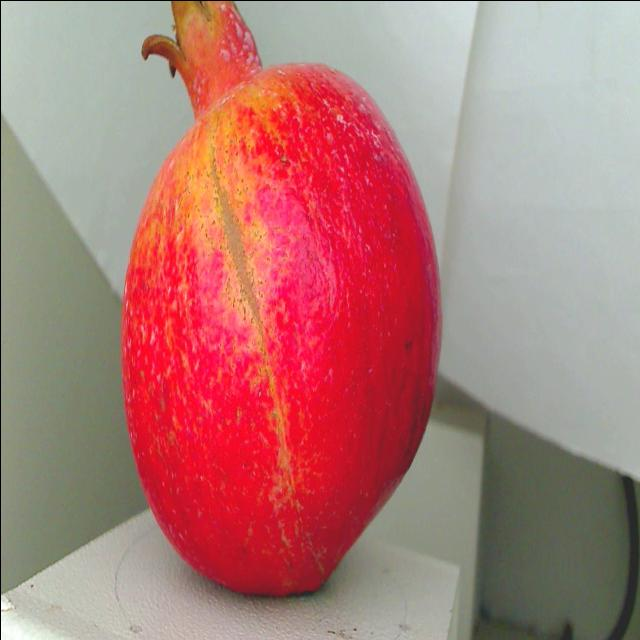pomegranate: (98, 0, 458, 614)
